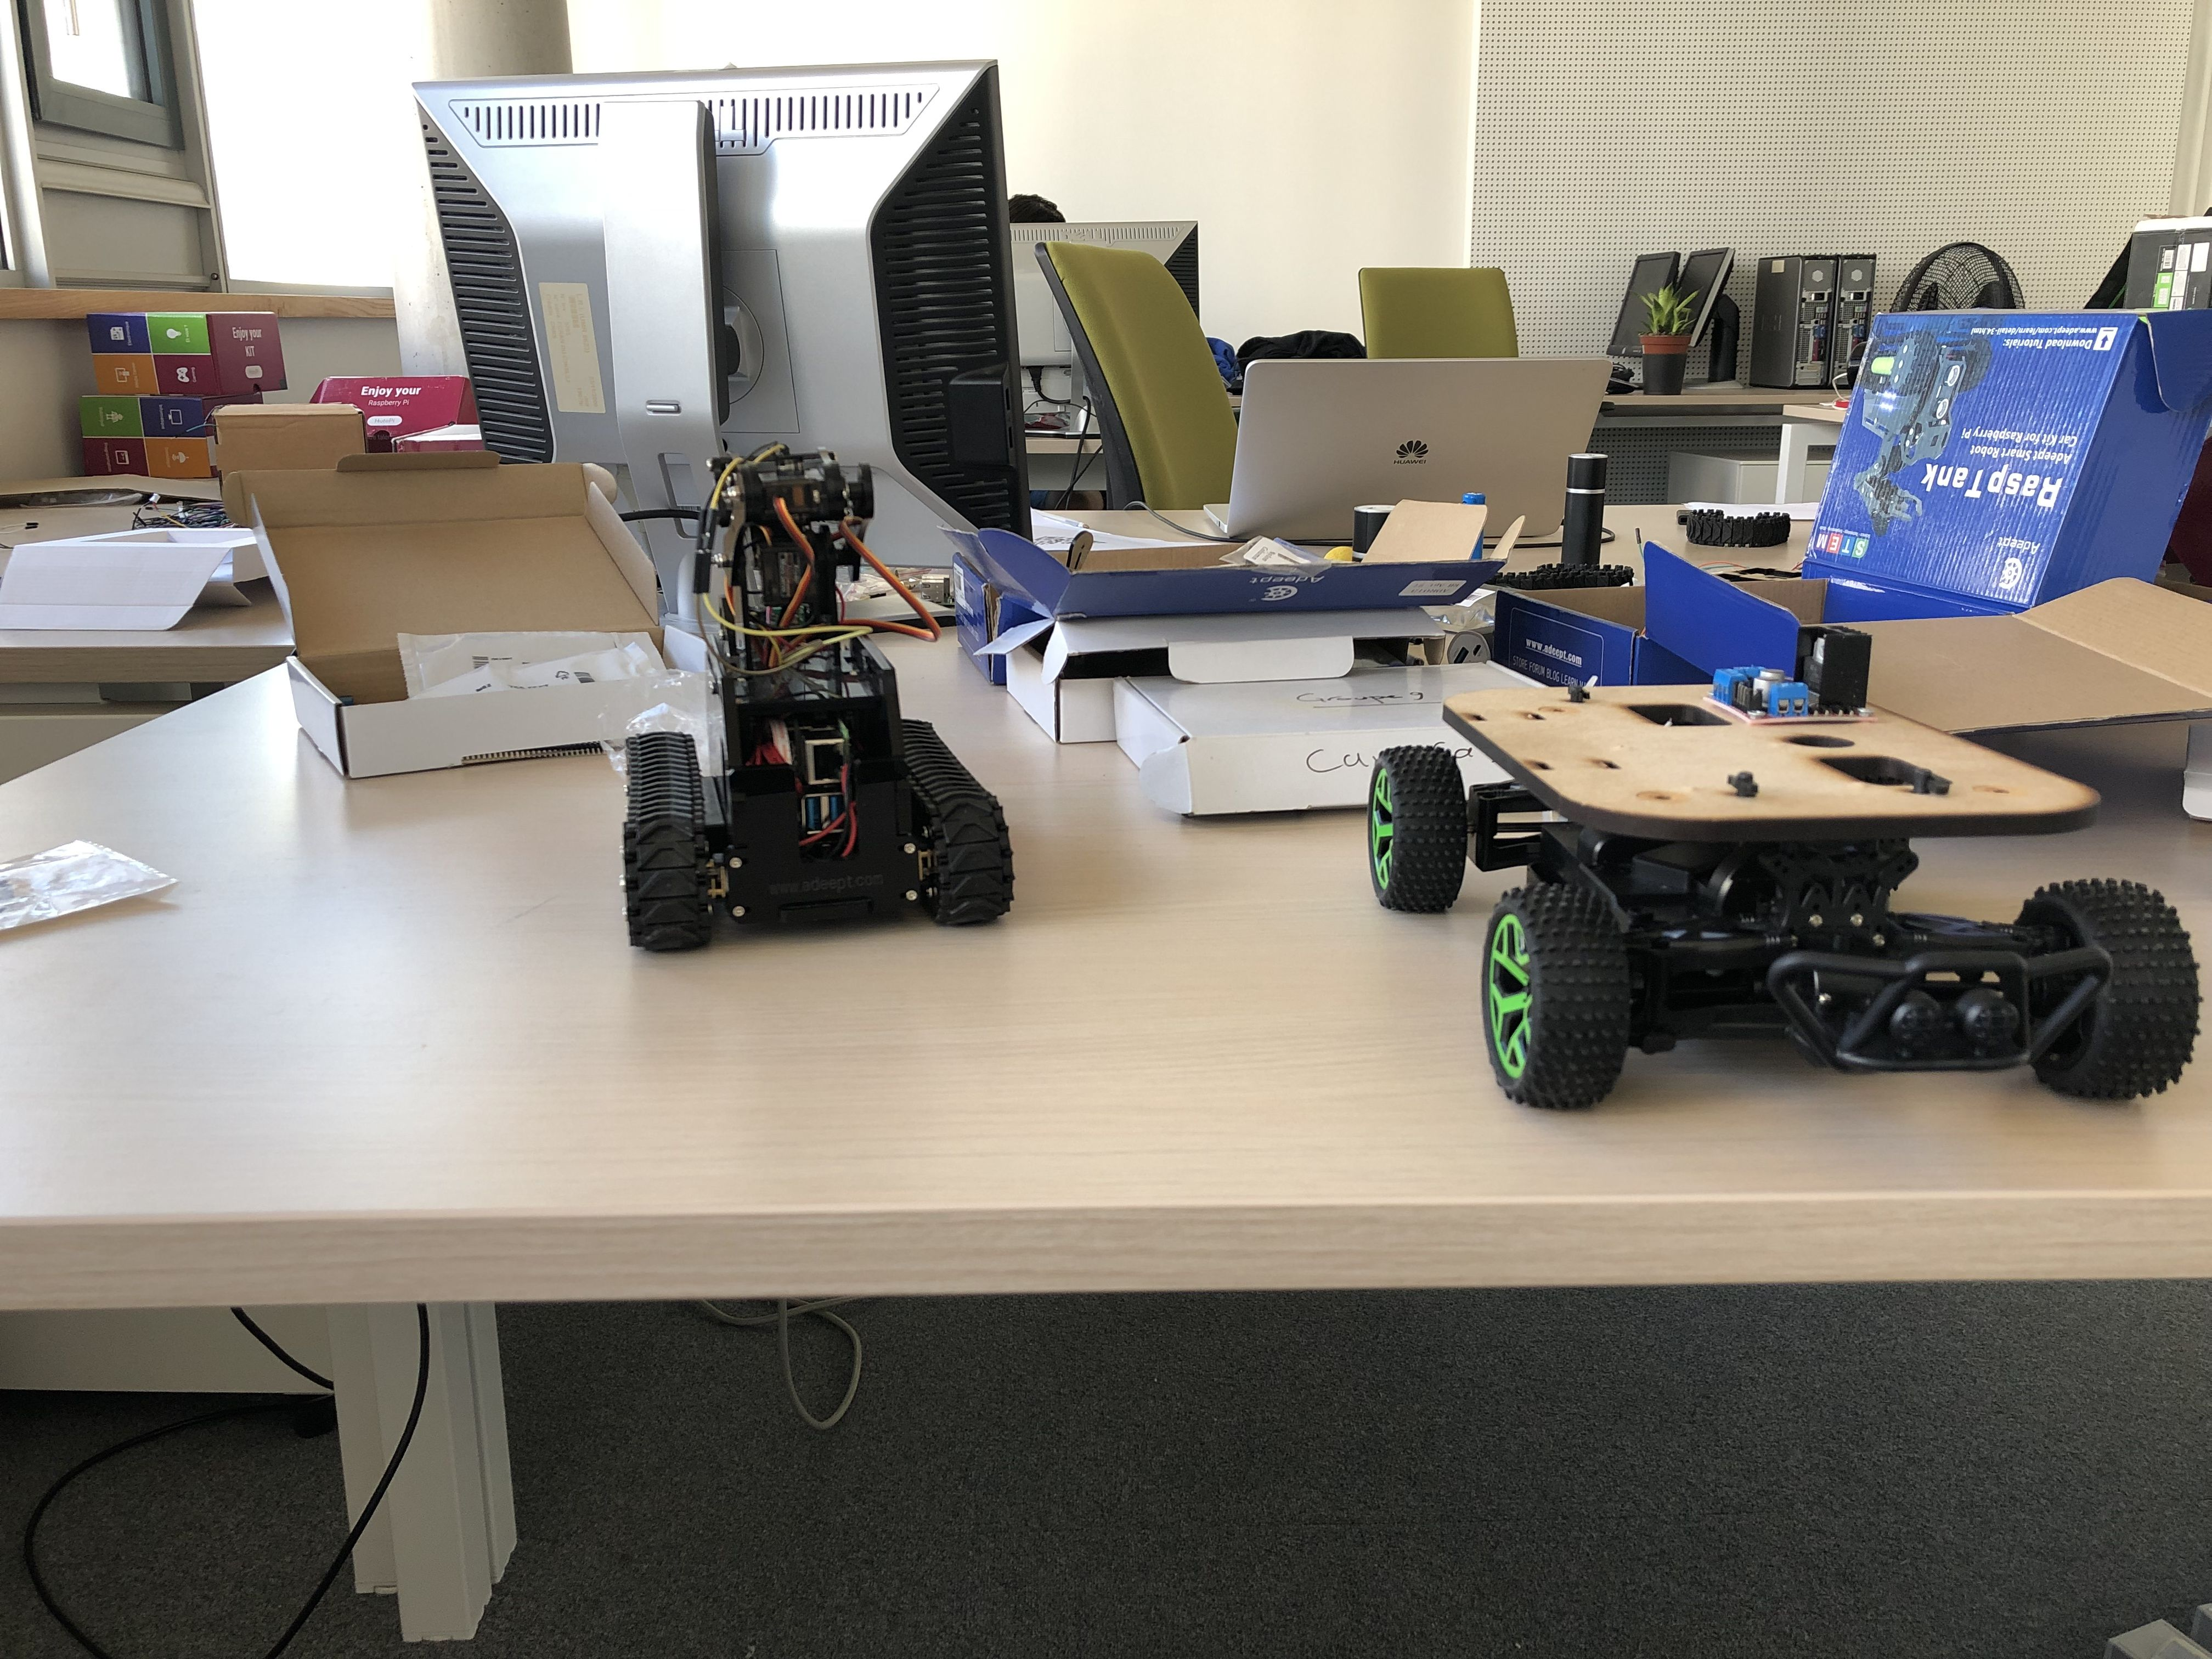rasptank: (615, 437, 1024, 964)
